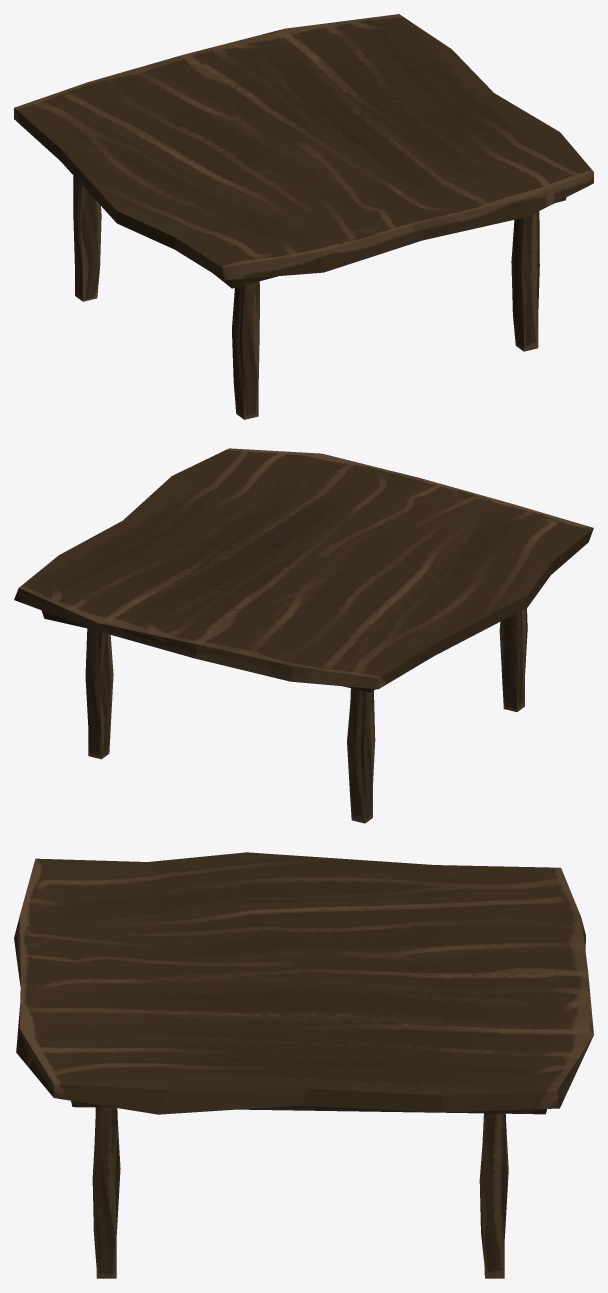
File: TableSquare_Geo.fbx
3 renders of one model, top to bottom at view 1: azimuth 30°, elevation 25°; view 2: azimuth 150°, elevation 25°; view 3: azimuth 270°, elevation 25°, orthographic. The views are drawn at different scales.
Visible parts, largest first — view 1: TableSquare_Geo; view 2: TableSquare_Geo; view 3: TableSquare_Geo.
Boxes of the visible parts, bbox=[...] form: TableSquare_Geo: bbox=[14, 14, 593, 419]; TableSquare_Geo: bbox=[14, 448, 593, 823]; TableSquare_Geo: bbox=[14, 852, 593, 1278].
Bounding box in the file's own units: 203 × 86.41 × 203.
